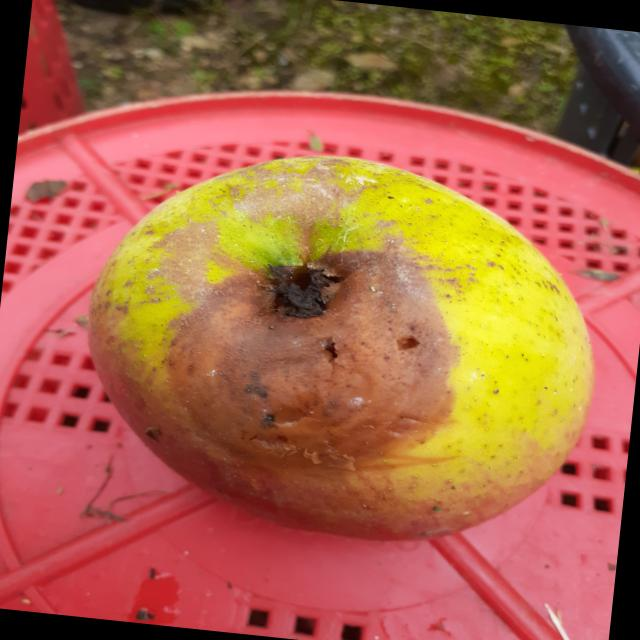rotten: (65, 125, 624, 569)
